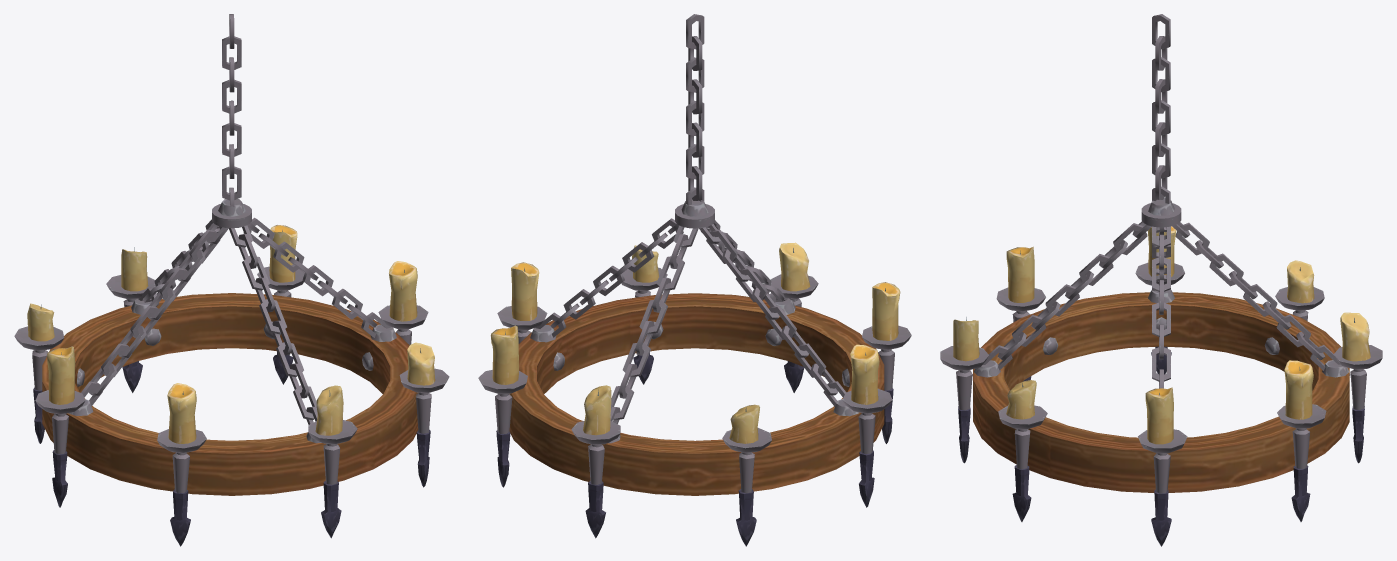
The model's file is Chandelier.gltf.
3 views of the same model, side by side, from view 1: azimuth 30°, elevation 25°; view 2: azimuth 150°, elevation 25°; view 3: azimuth 270°, elevation 25° (orthographic).
Parts seen in each view (by area): view 1: Chandelier; view 2: Chandelier; view 3: Chandelier.
Part boxes in pixels (left/top/right/bottom): Chandelier: left=14, top=14, right=449, bottom=546; Chandelier: left=478, top=14, right=911, bottom=546; Chandelier: left=940, top=14, right=1382, bottom=546.
Size of the model in its own units: 1.3 by 1.46 by 1.3.
Materials: 3 (3 with a texture image).
